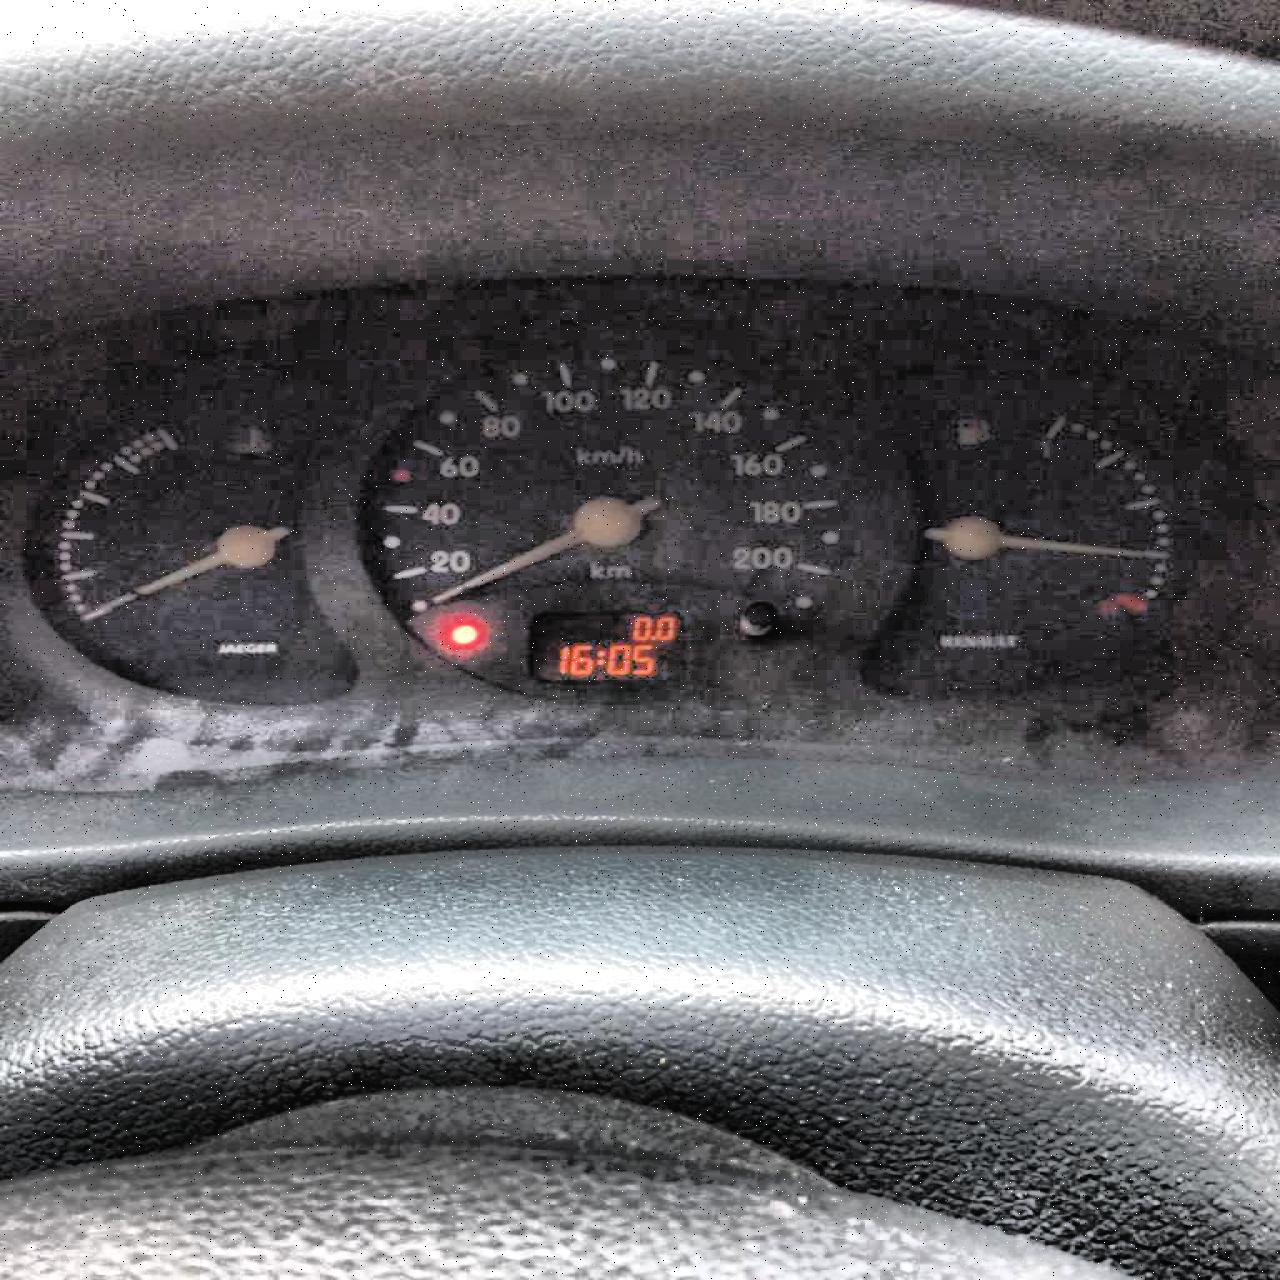-: (648, 632, 655, 640)
0: (607, 642, 628, 674), (656, 617, 673, 640), (632, 617, 648, 639)
1: (558, 644, 568, 673)
5: (629, 644, 653, 674)
6: (568, 642, 593, 675)
X: (595, 647, 605, 665)
odometer: (525, 607, 690, 683)
